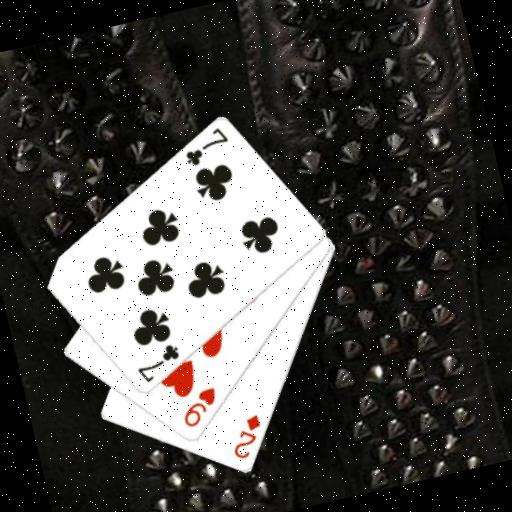2D: (223, 411, 270, 464)
7C: (177, 123, 235, 170), (130, 339, 186, 387)
9H: (175, 384, 225, 431)
